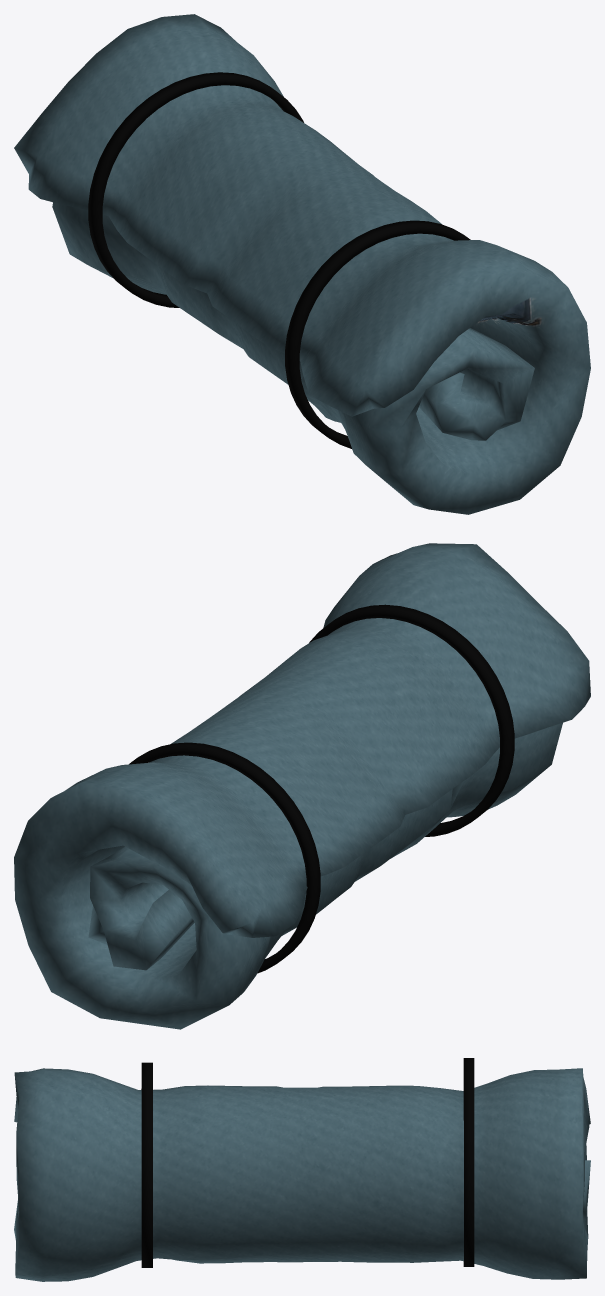
File: SleepingbagRoll.fbx
3 views of the same model, one above another, from view 1: azimuth 30°, elevation 25°; view 2: azimuth 150°, elevation 25°; view 3: azimuth 270°, elevation 25° (orthographic). The views are drawn at different scales.
Visible parts, largest first — view 1: Left Strap; view 2: Left Strap; view 3: Left Strap.
Boxes of the visible parts, <box> form: Left Strap: <box>14,14,590,514</box>; Left Strap: <box>14,543,590,1029</box>; Left Strap: <box>14,1058,590,1281</box>.
Size of the model in its own units: 0.1689 by 0.1549 by 0.4024.
